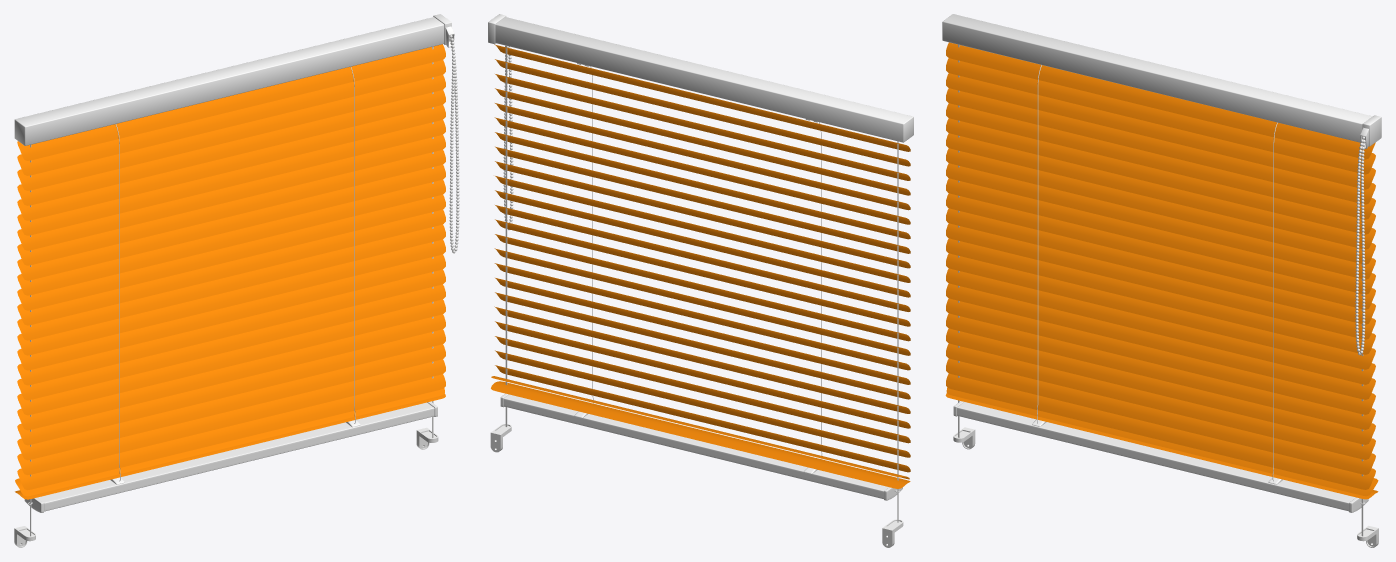
Rendered from 8100 Monokommando (Kette, Kurbel oder Motor).glb.
3 views of the same model, side by side, from view 1: azimuth 30°, elevation 25°; view 2: azimuth 150°, elevation 25°; view 3: azimuth 330°, elevation 25° (orthographic). The views are drawn at different scales.
Visible parts, largest first — view 1: Cube.036, jalousie.049, jalousie.045, jalousie, jalousie.043, jalousie.036, jalousie.042, jalousie.044, jalousie.024, jalousie.025, jalousie.035, jalousie.046 (+16 smaller); view 2: Cube.036, Cube.038, jalousie.040, jalousie.049, jalousie.039, jalousie.045, jalousie.025, jalousie.033, jalousie.044, jalousie, jalousie.026, jalousie.027 (+18 smaller); view 3: Cube.036, jalousie.049, jalousie.036, jalousie.037, jalousie.032, jalousie.034, jalousie.035, jalousie.033, jalousie.038, jalousie.039, jalousie.031, jalousie.025 (+17 smaller).
Part boxes in pixels (x1,y1,x2,y2): Cube.036: (14, 17, 444, 145); jalousie.049: (17, 44, 445, 160); jalousie.045: (17, 104, 445, 220); jalousie: (17, 164, 445, 280); jalousie.043: (17, 134, 445, 250); jalousie.036: (17, 329, 445, 445); jalousie.042: (17, 149, 445, 265); jalousie.044: (17, 119, 445, 235); jalousie.024: (17, 179, 445, 295); jalousie.025: (17, 194, 445, 310); jalousie.035: (17, 314, 445, 430); jalousie.046: (17, 89, 445, 205); Cube.036: (495, 17, 913, 142); Cube.038: (503, 394, 888, 498); jalousie.040: (491, 381, 910, 488); jalousie.049: (494, 44, 910, 151); jalousie.039: (495, 365, 910, 472); jalousie.045: (495, 103, 910, 210); jalousie.025: (495, 190, 910, 297); jalousie.033: (495, 278, 910, 384); jalousie.044: (494, 117, 910, 224); jalousie: (495, 161, 910, 268); jalousie.026: (495, 205, 910, 311); jalousie.027: (495, 219, 910, 326); Cube.036: (942, 14, 1372, 142); jalousie.049: (946, 42, 1375, 159); jalousie.036: (946, 328, 1375, 444); jalousie.037: (946, 343, 1375, 459); jalousie.032: (946, 268, 1375, 384); jalousie.034: (946, 298, 1375, 414); jalousie.035: (946, 313, 1375, 429); jalousie.033: (946, 283, 1375, 399); jalousie.038: (946, 358, 1375, 474); jalousie.039: (946, 373, 1375, 489); jalousie.031: (946, 253, 1375, 369); jalousie.025: (946, 193, 1375, 309).
Size of the model in its own units: 1.35 by 1.31 by 0.1312.
2 materials, 1 textured.
